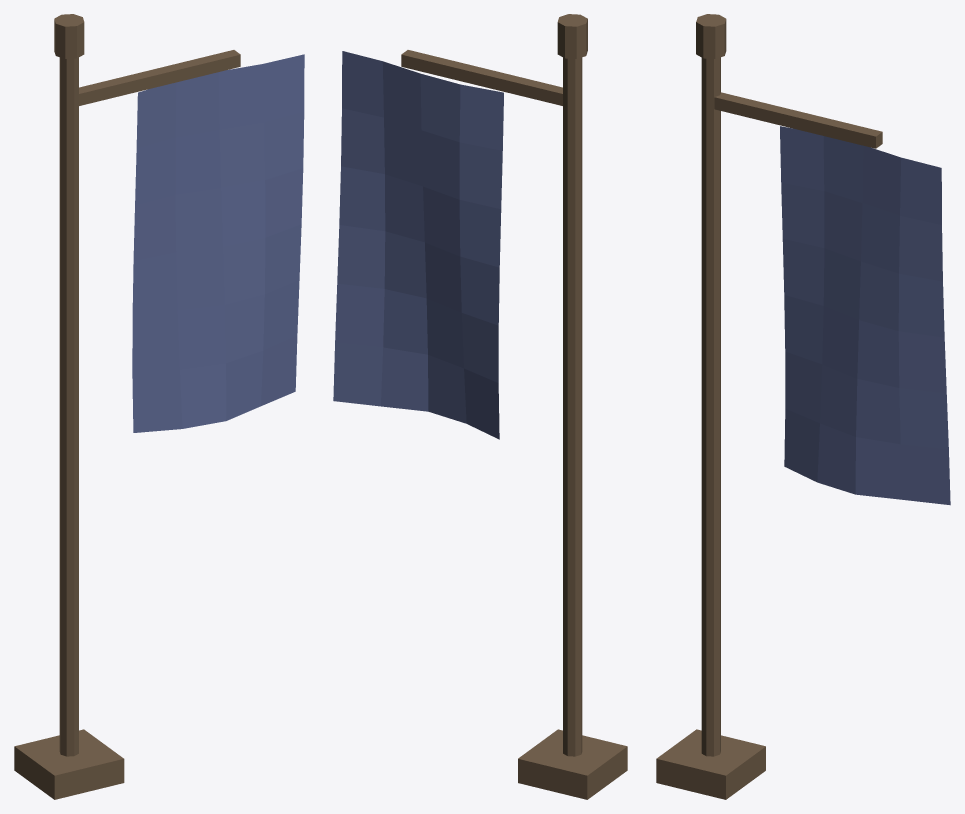
The model's file is banner_blue.glb.
The picture shows the model from 3 angles, left to right: view 1: azimuth 30°, elevation 25°; view 2: azimuth 150°, elevation 25°; view 3: azimuth 330°, elevation 25°; orthographic projection.
Visible parts, largest first — view 1: banner_blue; view 2: banner_blue; view 3: banner_blue.
Boxes of the visible parts, left/top/right/bottom form: banner_blue: left=14, top=14, right=304, bottom=799; banner_blue: left=333, top=14, right=627, bottom=799; banner_blue: left=656, top=14, right=950, bottom=799.
Size of the model in its own units: 1.38 by 3.74 by 0.36.
